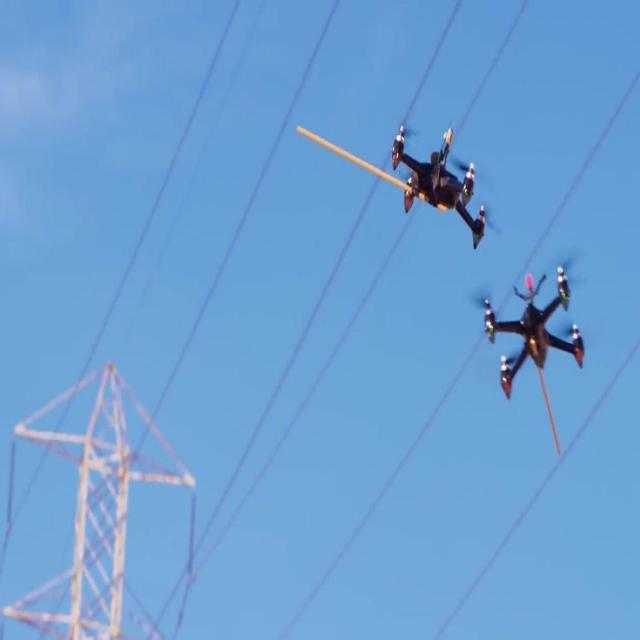drone: (482, 262, 588, 402), (388, 118, 494, 252)
